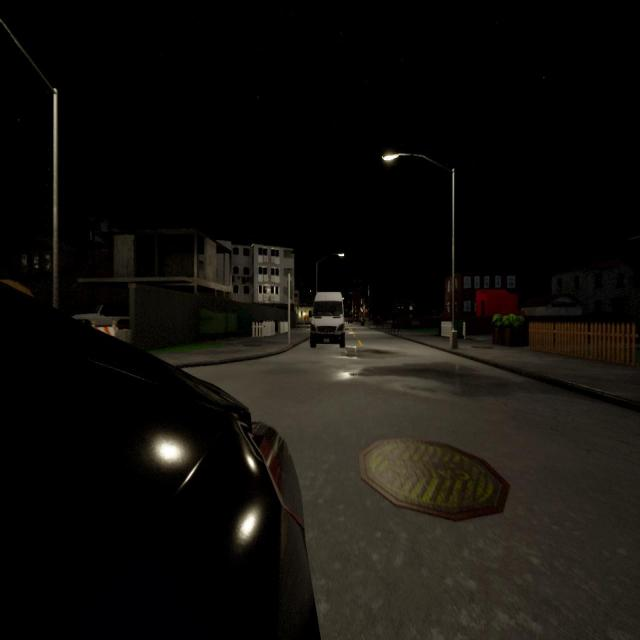Vehicle: (0, 284, 319, 638), (309, 292, 347, 349), (70, 296, 130, 329)
traffic_light: (290, 280, 294, 302), (366, 306, 368, 312)
